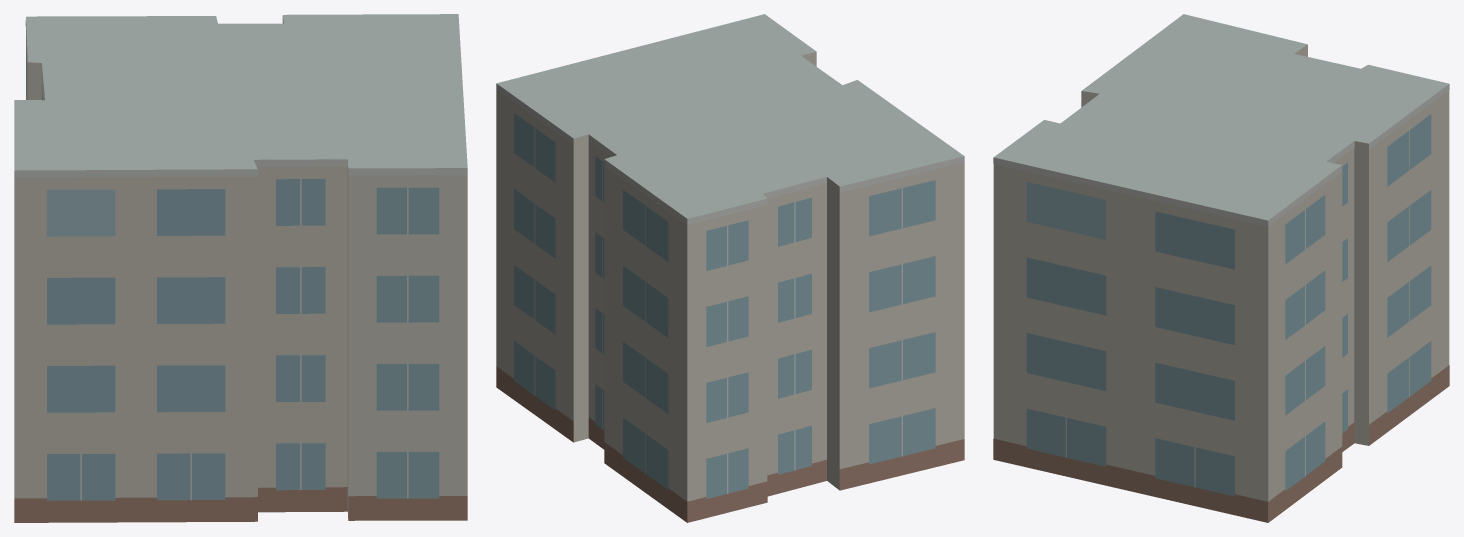
The model's file is survey-upis-32554290.glb.
3 views of the same model, side by side, from view 1: azimuth 30°, elevation 25°; view 2: azimuth 150°, elevation 25°; view 3: azimuth 270°, elevation 25° (orthographic). The views are drawn at different scales.
Visible parts, largest first — view 1: survey-upis-32554290.tmp; view 2: survey-upis-32554290.tmp; view 3: survey-upis-32554290.tmp.
Boxes of the visible parts, <box> form: survey-upis-32554290.tmp: <box>14,14,467,522</box>; survey-upis-32554290.tmp: <box>496,14,964,522</box>; survey-upis-32554290.tmp: <box>993,14,1449,522</box>.
Bounding box in the file's own units: 17.21 × 11.74 × 16.06.
